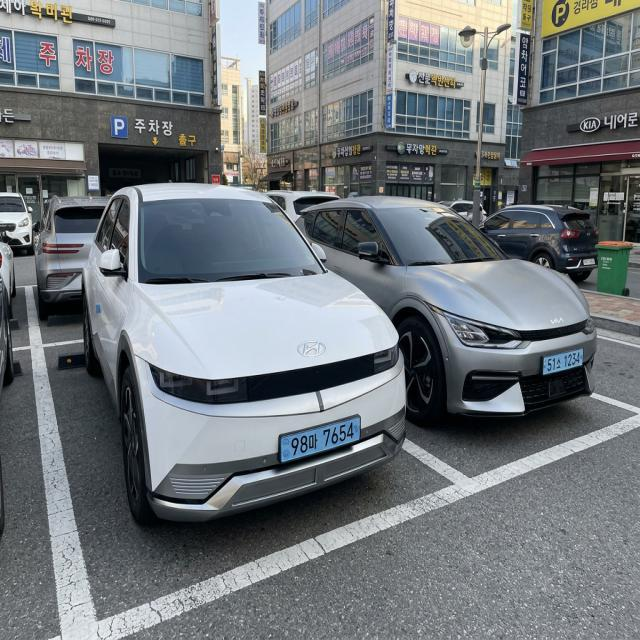car: (266, 409, 379, 473), (534, 343, 591, 383)
carev: (352, 413, 366, 451), (277, 430, 291, 467), (578, 349, 586, 370), (540, 357, 548, 375)
